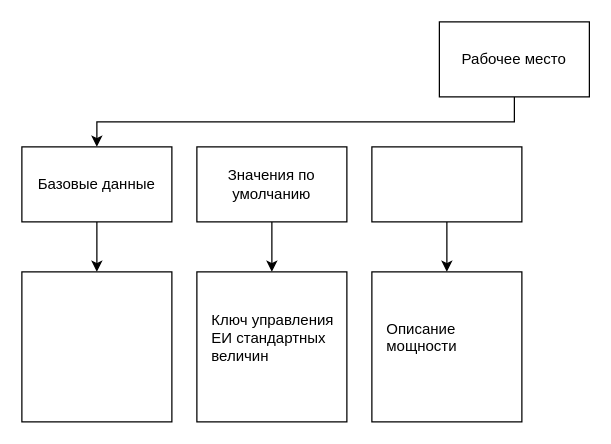
The diagram is 611 pixels wide and 444 high, and some of its shapes have lost their labels. The shapes that lost their labels are listed below. From the top down, each one's centre as x and y in pixels, then its label:
(446,184): Мощности
(96,346): Завод Код РМ Описание РМ Вид РМ Ответственный Использование Ключ значения
